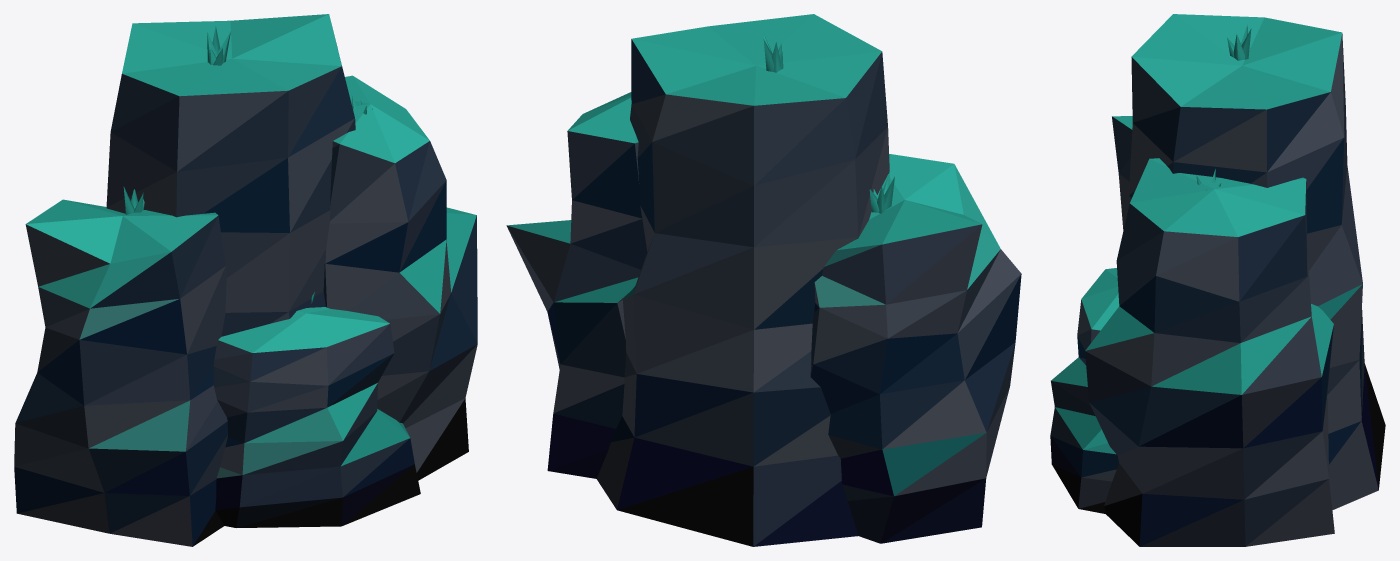
The model's file is batu_cliff_basalt_810939.glb.
3 renders of one model, left to right at view 1: azimuth 30°, elevation 25°; view 2: azimuth 150°, elevation 25°; view 3: azimuth 270°, elevation 25°, orthographic. The views are drawn at different scales.
Parts seen in each view (by area): view 1: Tebing_Sungai_Curam; view 2: Tebing_Sungai_Curam; view 3: Tebing_Sungai_Curam.
Boxes of the visible parts, x1,y1,x2,y2 form: Tebing_Sungai_Curam: [14, 14, 477, 546]; Tebing_Sungai_Curam: [506, 14, 1021, 546]; Tebing_Sungai_Curam: [1050, 14, 1385, 546].
Bounding box in the file's own units: 7.57 × 6.93 × 4.8.
